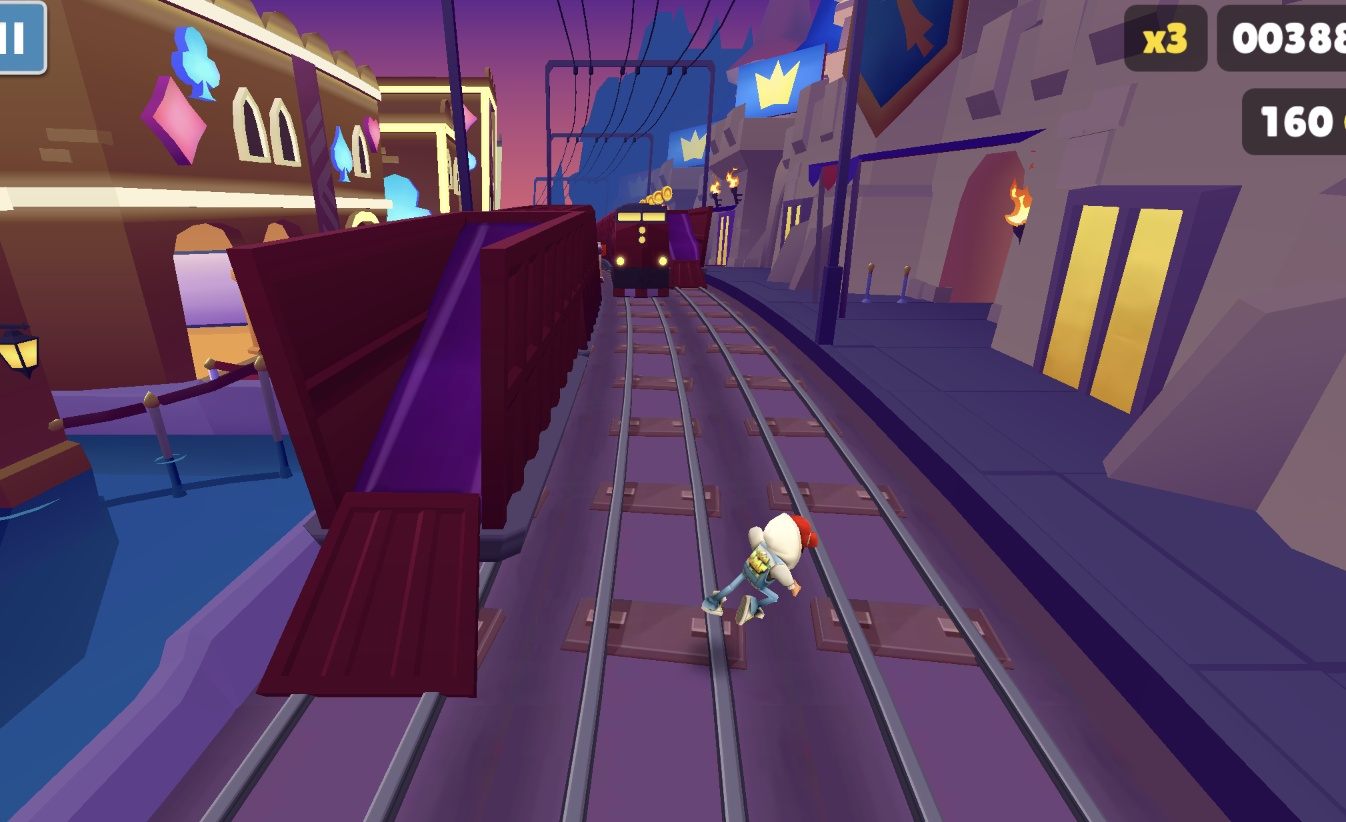train: (207, 205, 604, 701), (611, 203, 675, 300), (659, 209, 716, 291)
